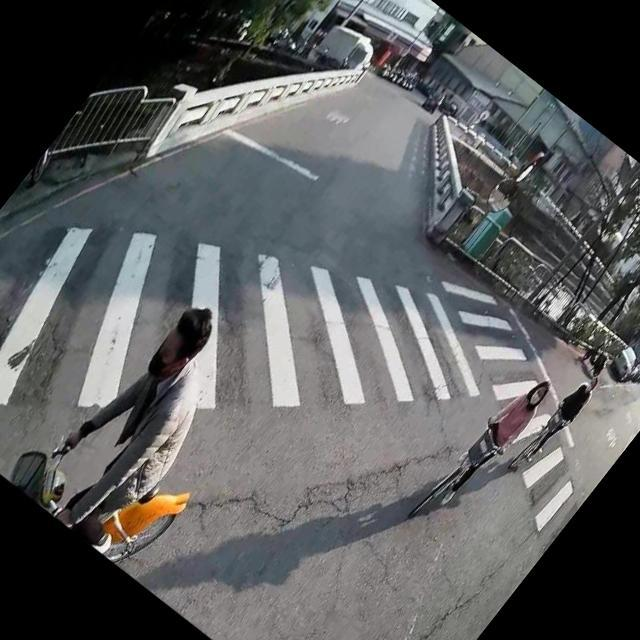person: (21, 286, 266, 556), (427, 359, 563, 518), (517, 367, 606, 472)
